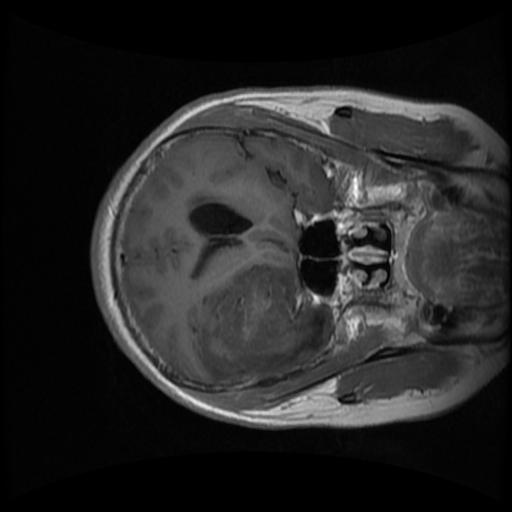glioma: (188, 264, 333, 383)
